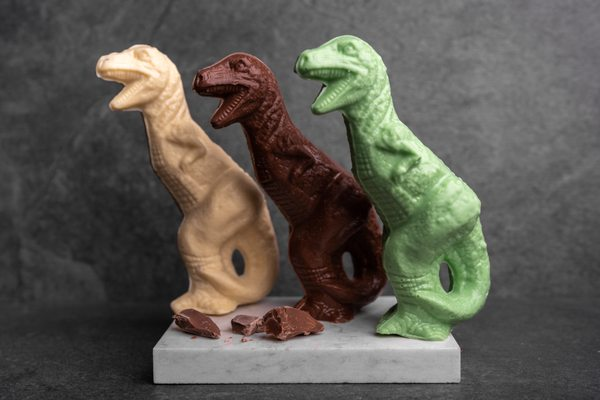sandwich: (295, 33, 492, 342)
